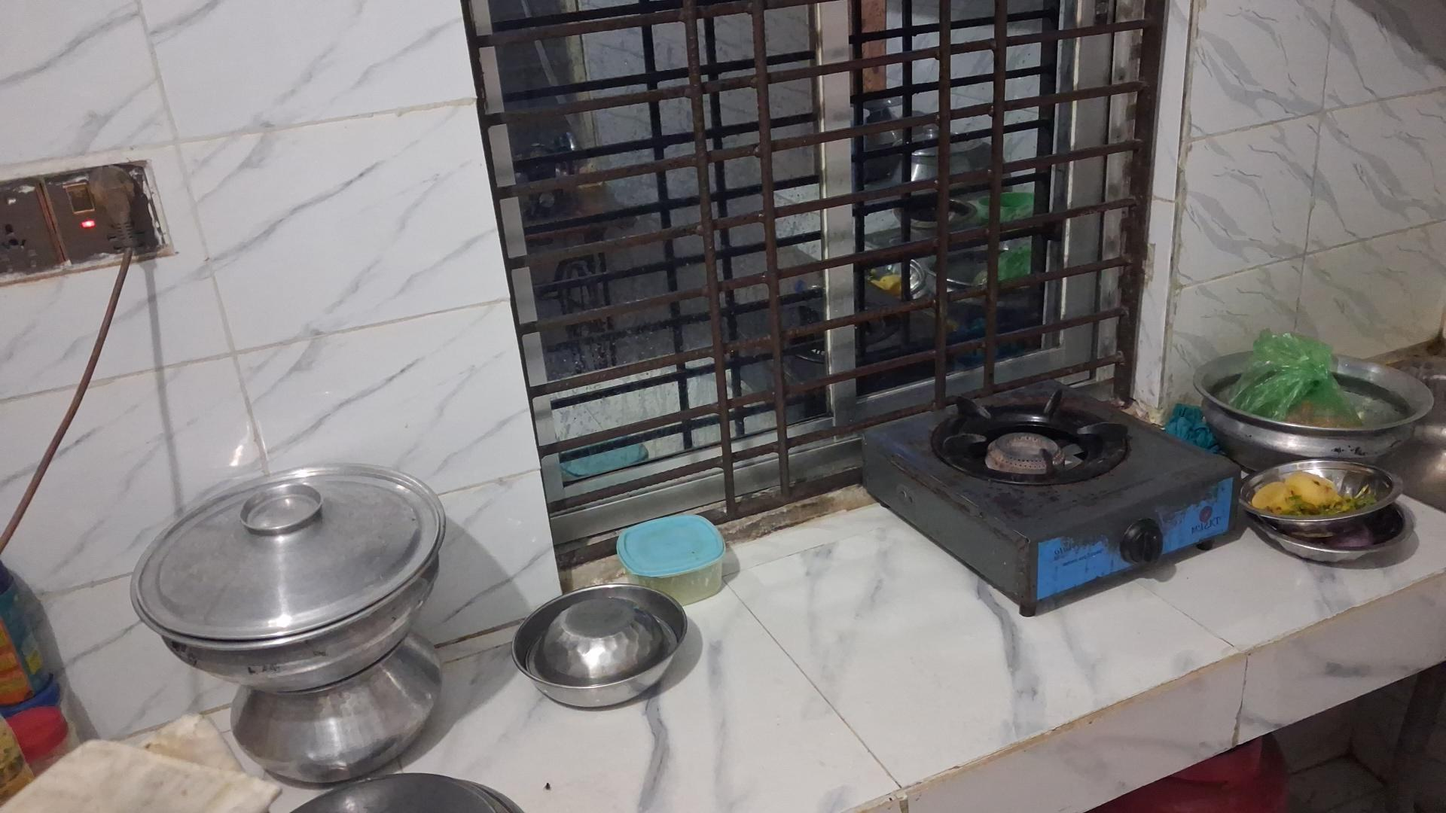Bowl: (512, 584, 688, 707), (1235, 462, 1400, 535), (1257, 503, 1411, 564)
Jar: (619, 513, 722, 603)
Pot: (128, 460, 452, 686), (1193, 348, 1433, 460), (233, 667, 448, 787)
